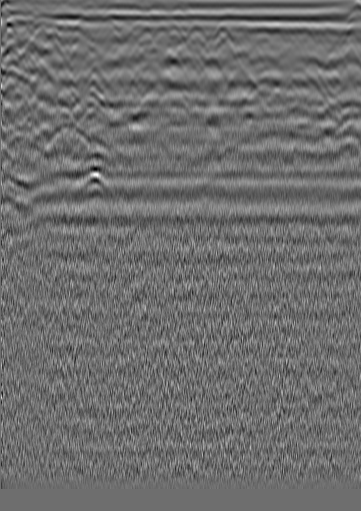가스: (77, 163, 110, 191)
상수: (293, 22, 313, 42)
오수: (28, 23, 48, 43)
우수: (164, 22, 184, 42)
